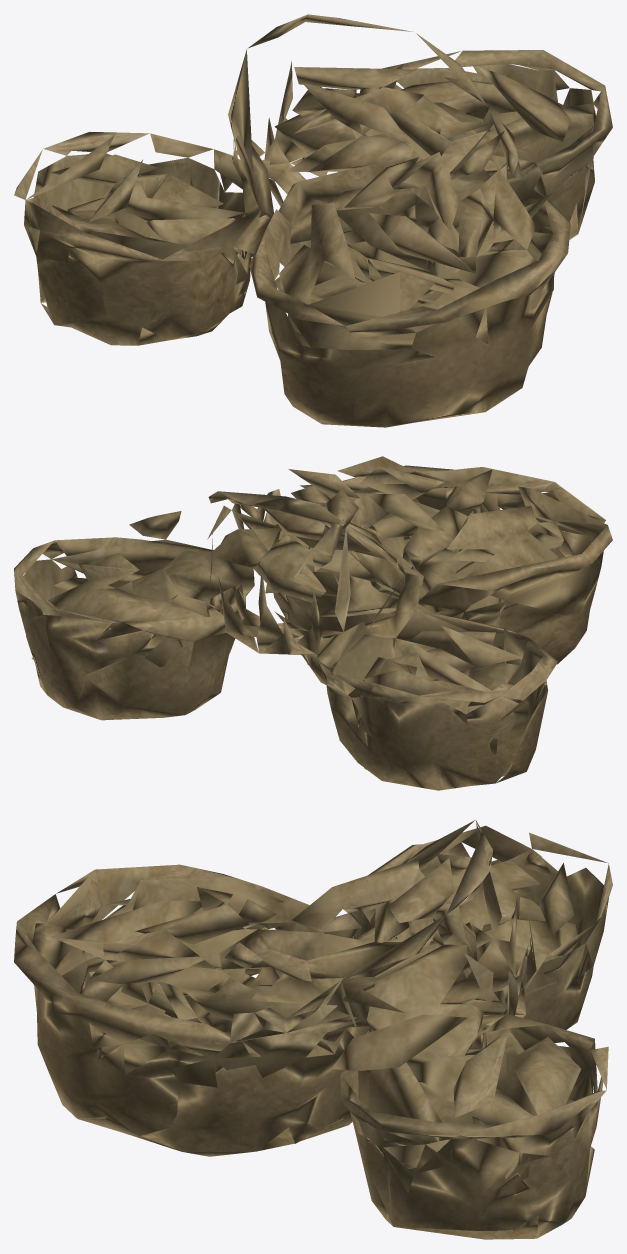
File: fish_baskets.glb
3 views of the same model, one above another, from view 1: azimuth 30°, elevation 25°; view 2: azimuth 150°, elevation 25°; view 3: azimuth 270°, elevation 25° (orthographic). The views are drawn at different scales.
Bounding box in the file's own units: 1.89 × 0.8185 × 1.59.
Materials: 1 (1 with a texture image).
